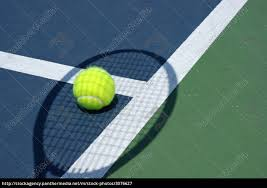tennis_ball: (73, 64, 115, 111)
